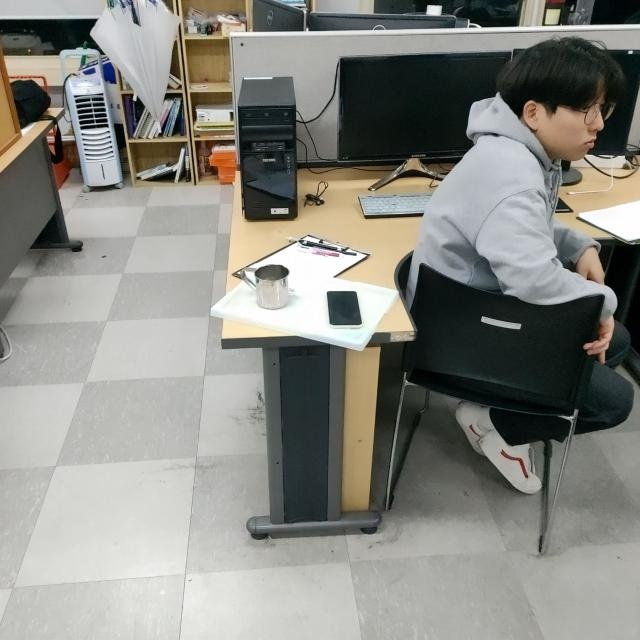cup: (242, 262, 291, 310)
phone: (325, 288, 365, 330)
